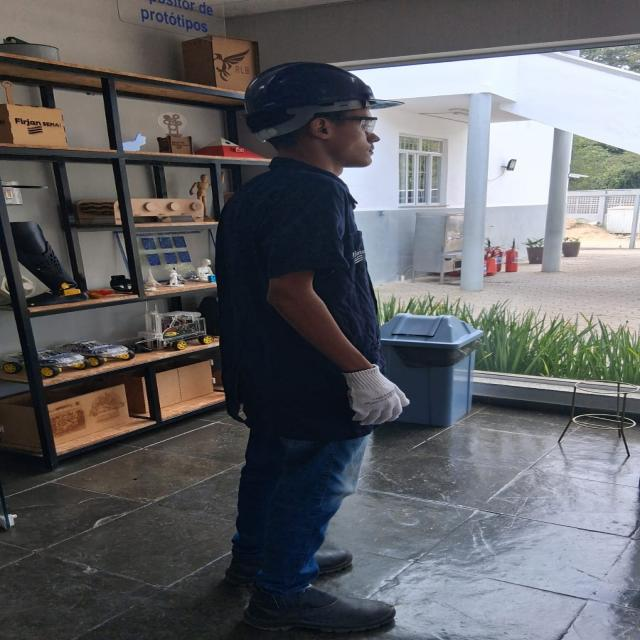BOTA: (244, 585, 406, 630), (207, 542, 359, 579)
CAPACETE: (232, 59, 407, 144)
JALECO: (178, 158, 387, 446)
LUVA: (349, 362, 417, 428)
OCULOS: (290, 114, 383, 138)
